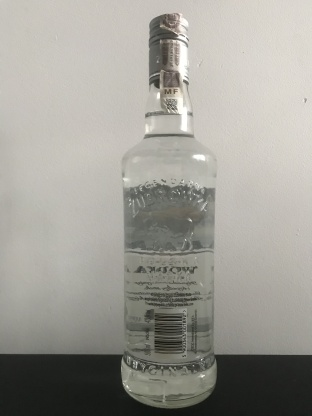nakretka: (146, 10, 191, 85)
